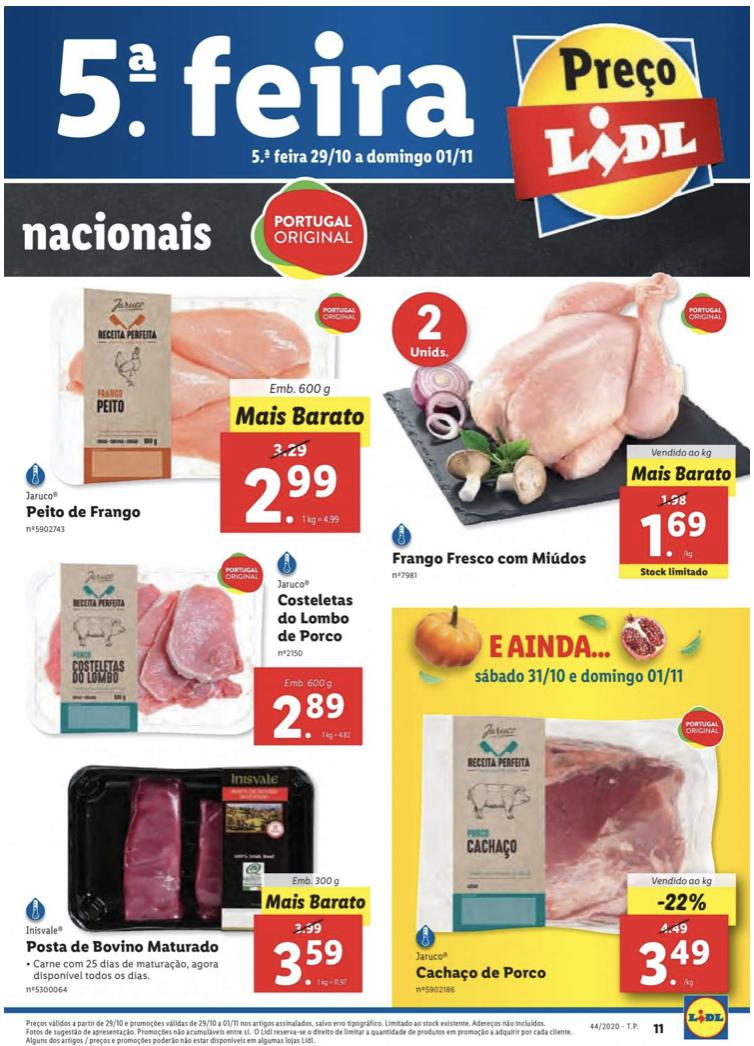name: (274, 590, 358, 649), (21, 937, 222, 959), (387, 549, 592, 570), (414, 963, 557, 985), (25, 502, 144, 520)
price: (239, 466, 347, 528), (271, 936, 353, 990), (639, 509, 715, 566), (634, 935, 713, 989), (271, 690, 354, 740)
product: (383, 277, 753, 594), (404, 690, 736, 1011), (9, 276, 375, 541), (5, 749, 380, 1002), (5, 551, 374, 749)
